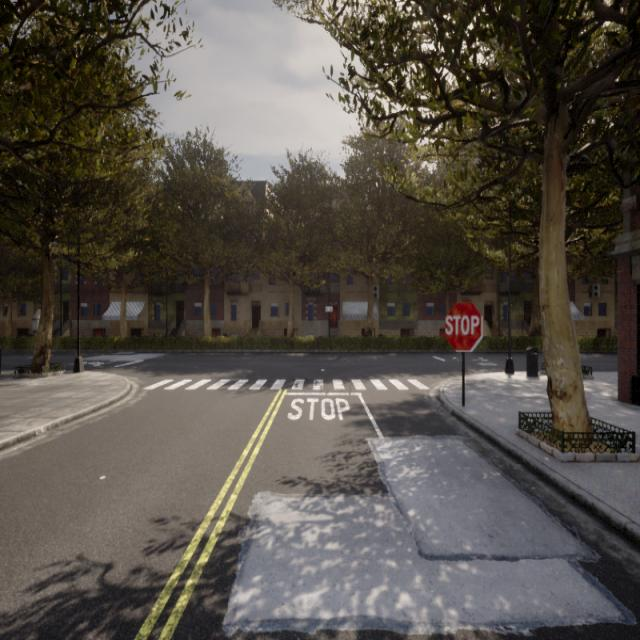stop sign: (442, 298, 484, 353), (444, 312, 480, 337)
